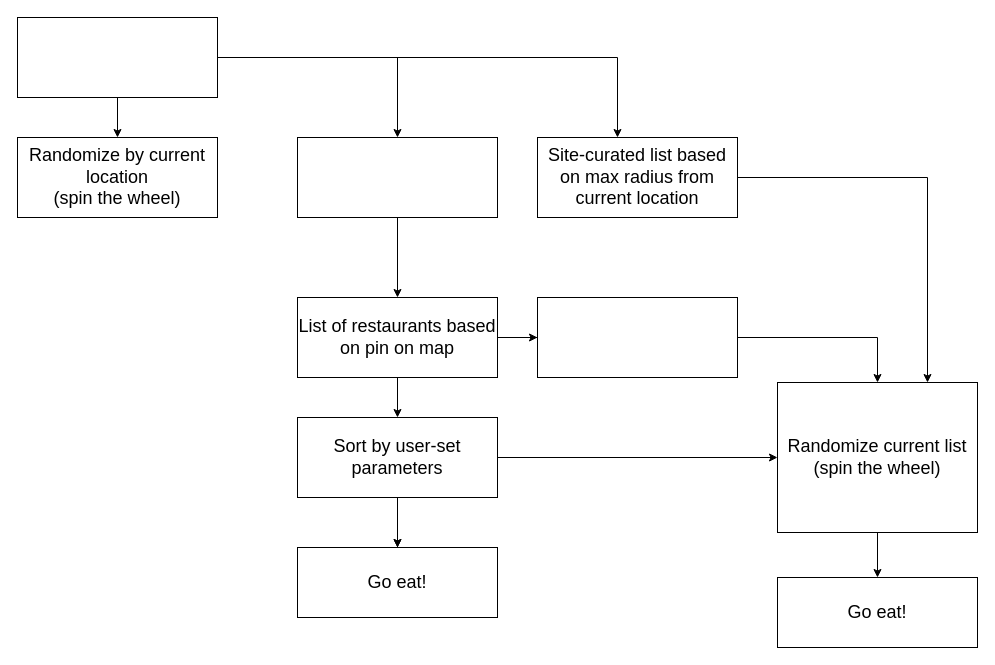
This 995x665 diagram has some shape labels left out. Here are the shapes that lost their labels. From the top down, the centre of each, then its label:
At pixel 117 57: "Home Page".
At pixel 397 177: "Map".
At pixel 637 337: "List of saved favorites".
